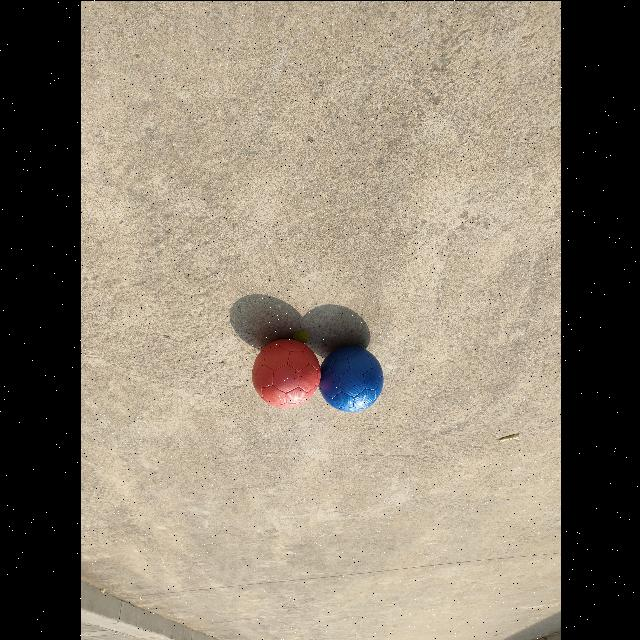B: (319, 345, 382, 412)
R: (251, 338, 320, 407)
